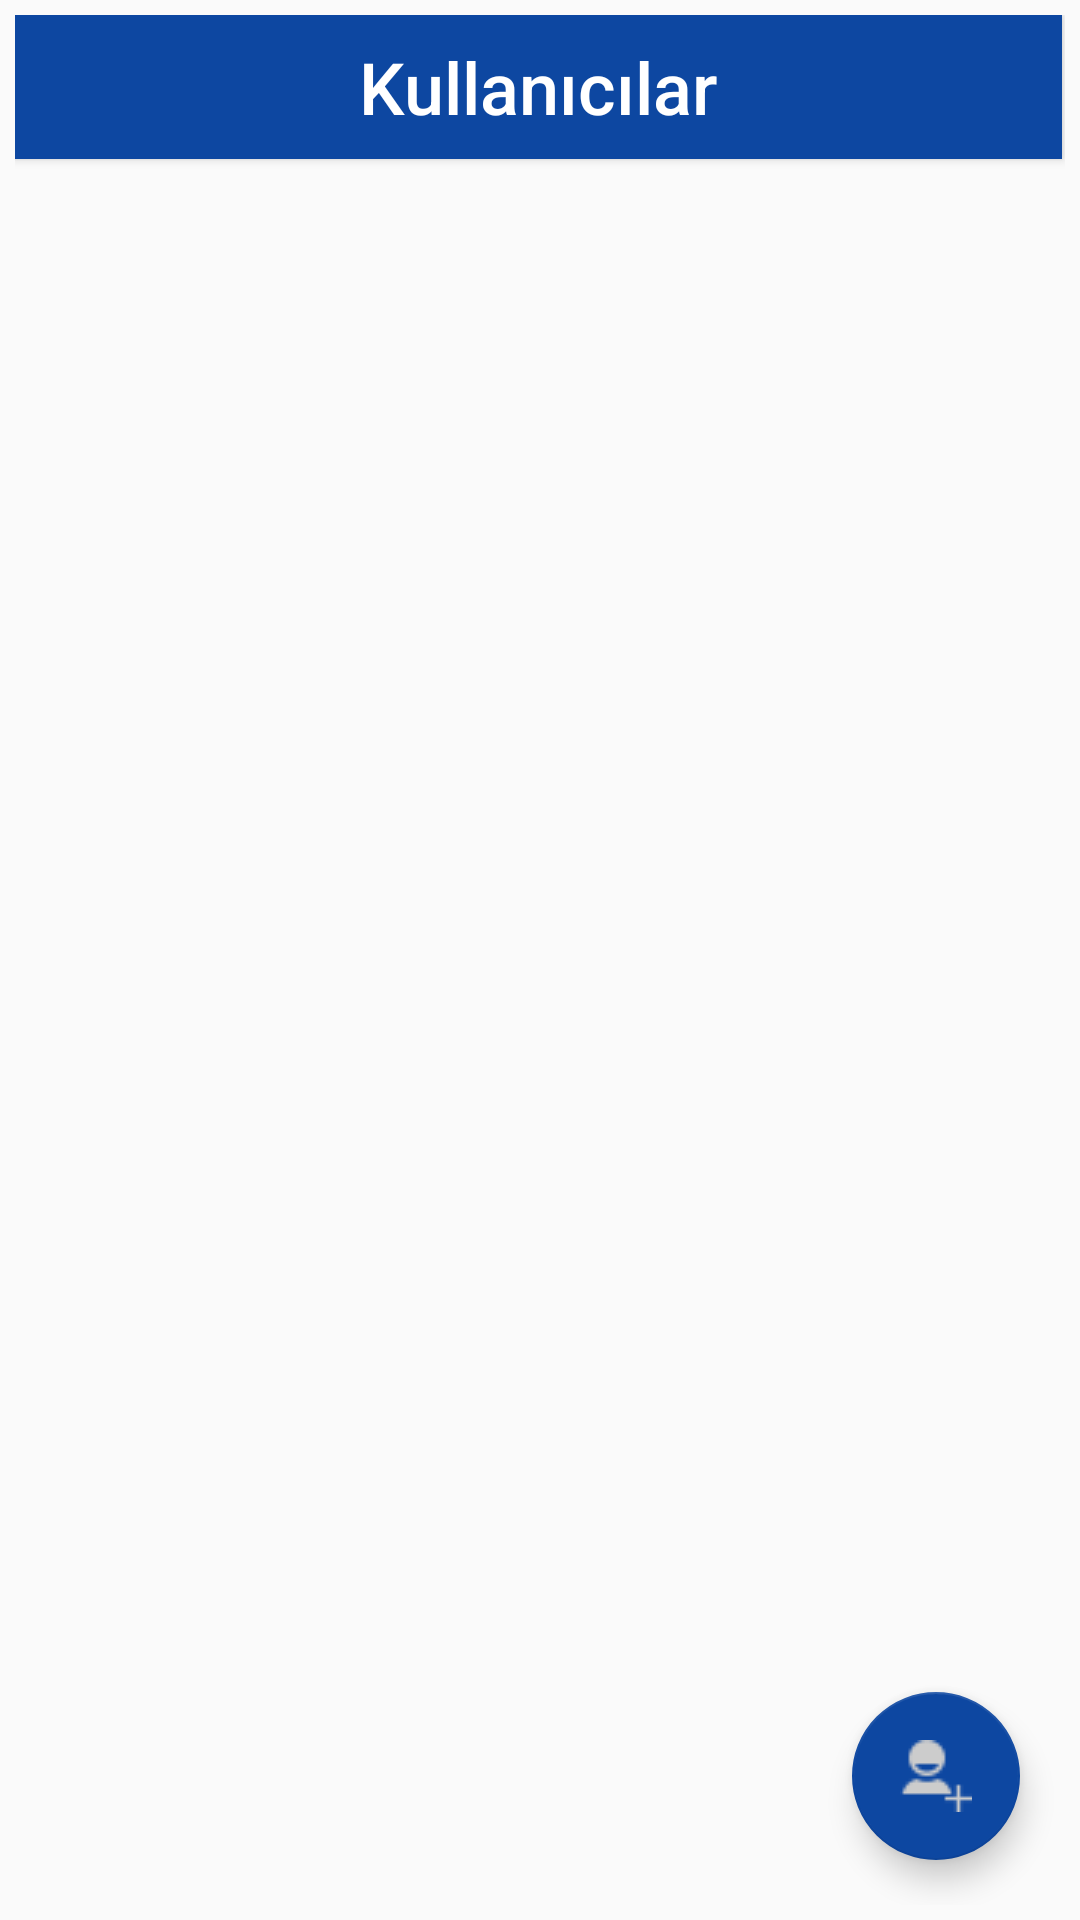

Screen size 1080w x 1920h. Icon name, then its box in pixels as (x1, y1, x2, y2):
add user: (852, 1692, 1020, 1860)
